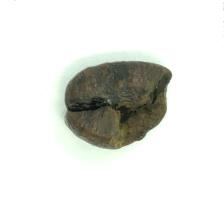NG: (112, 64, 173, 150)
